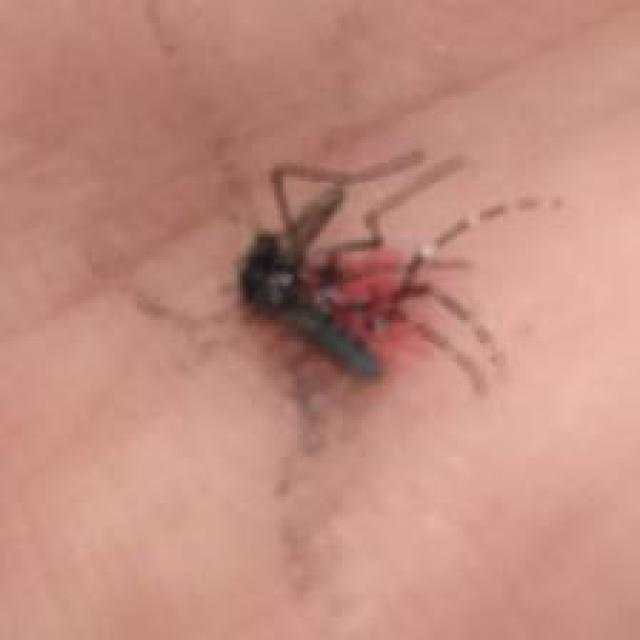Aedes albopictus: (230, 146, 561, 400)
